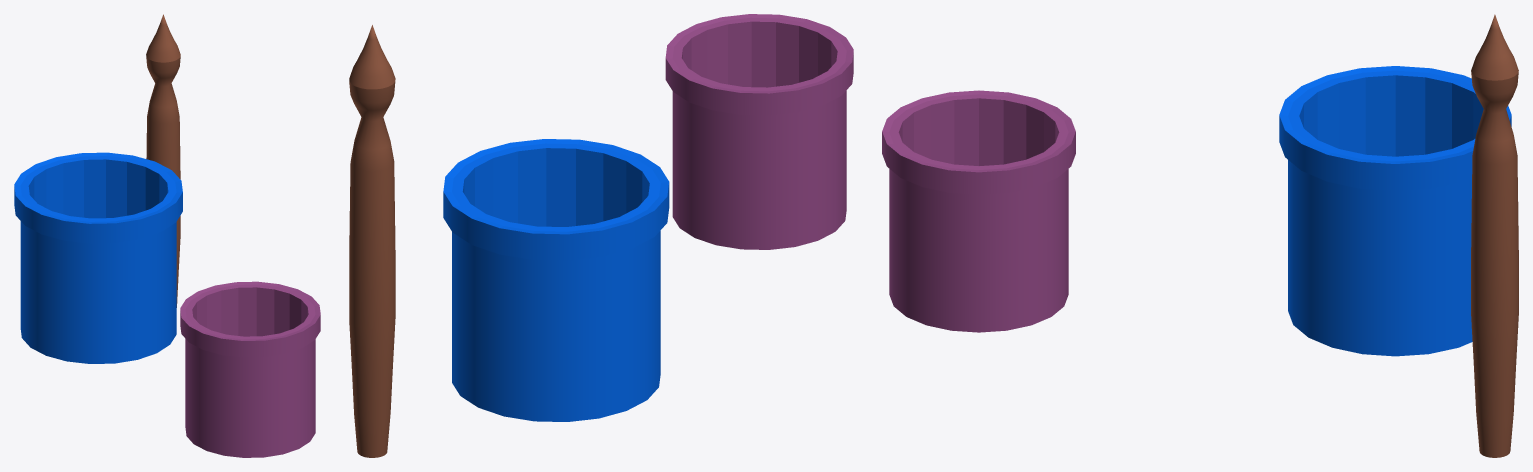
Rendered from paint_01.fbx.
The picture shows the model from 3 angles, left to right: view 1: azimuth 30°, elevation 25°; view 2: azimuth 150°, elevation 25°; view 3: azimuth 270°, elevation 25°; orthographic projection. The views are drawn at different scales.
Visible parts, largest first — view 1: Paint, Paint1, Brush; view 2: Paint, Paint1, Brush; view 3: Paint, Paint1, Brush.
Part boxes in pixels (left/top/right/bottom): Paint: left=14, top=152, right=182, bottom=363; Paint1: left=180, top=281, right=320, bottom=457; Brush: left=146, top=14, right=180, bottom=307; Paint: left=443, top=139, right=669, bottom=421; Paint1: left=665, top=14, right=853, bottom=249; Brush: left=349, top=25, right=395, bottom=457; Paint: left=1279, top=66, right=1511, bottom=356; Paint1: left=882, top=90, right=1075, bottom=332; Brush: left=1471, top=14, right=1518, bottom=457.
Bounding box in the file's own units: 1 × 1.63 × 2.13.
